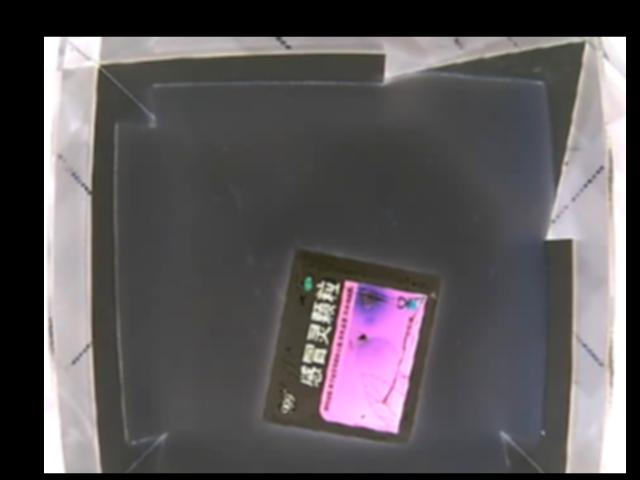Medicine: (259, 243, 443, 446)
